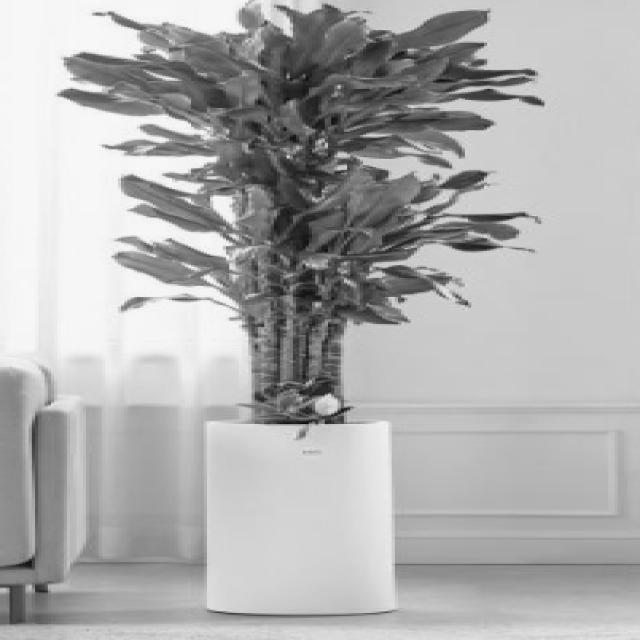Plant Pot: (191, 402, 444, 628)
